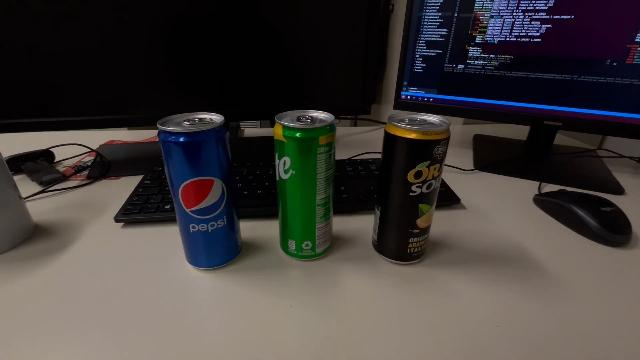OranSoda: (371, 109, 451, 267)
Pepsi: (158, 111, 246, 273)
Sprite: (269, 107, 339, 261)
